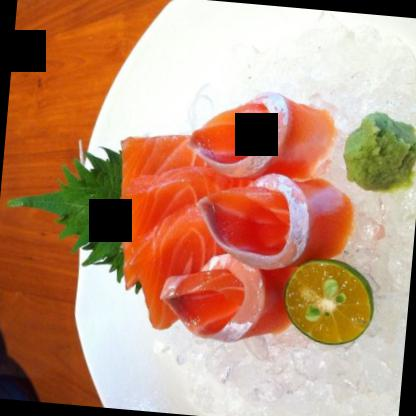salmon: (116, 93, 356, 348)
